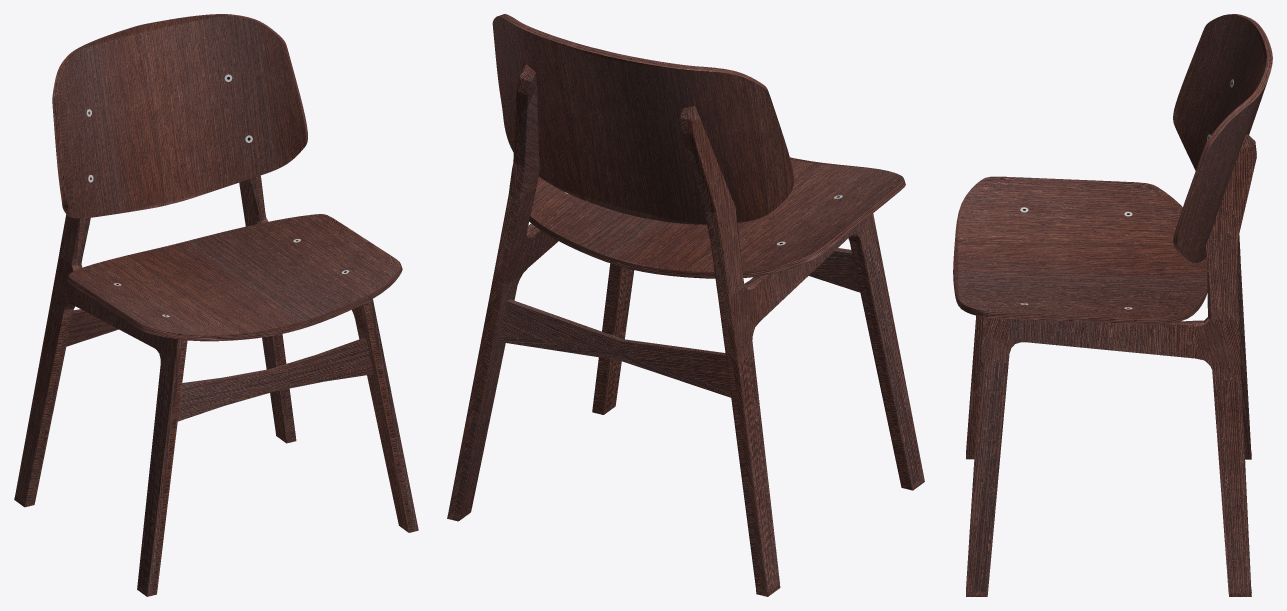
The model's file is chair.glb.
3 views of the same model, side by side, from view 1: azimuth 30°, elevation 25°; view 2: azimuth 150°, elevation 25°; view 3: azimuth 270°, elevation 25° (orthographic). The views are drawn at different scales.
Parts seen in each view (by area): view 1: back.003, seat.003, base.003, slat1.003, slat2.003; view 2: base.003, back.003, seat.003, slat2.003, slat1.003; view 3: seat.003, base.003, back.003.
Boxes of the visible parts, x1,y1,x2,y2 form: back.003: (52, 14, 307, 218); seat.003: (67, 214, 402, 341); base.003: (14, 175, 418, 596); slat1.003: (177, 338, 373, 421); slat2.003: (66, 309, 118, 346); base.003: (447, 64, 924, 596); back.003: (492, 14, 793, 224); seat.003: (509, 157, 905, 278); slat2.003: (498, 299, 731, 397); slat1.003: (809, 248, 860, 292); seat.003: (953, 176, 1207, 324); base.003: (966, 134, 1256, 596); back.003: (1173, 14, 1272, 263).
Bounding box in the file's own units: 0.5184 × 0.7946 × 0.4915.
7 materials, 5 textured.
